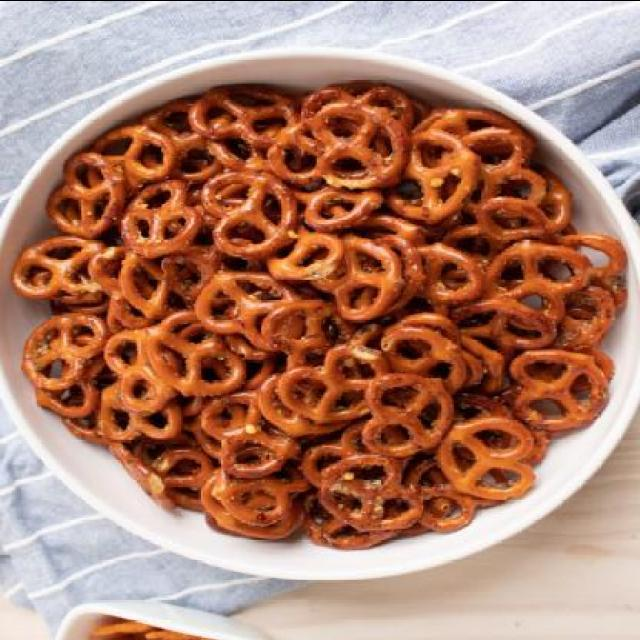Salatini packaged: (10, 76, 627, 553)
